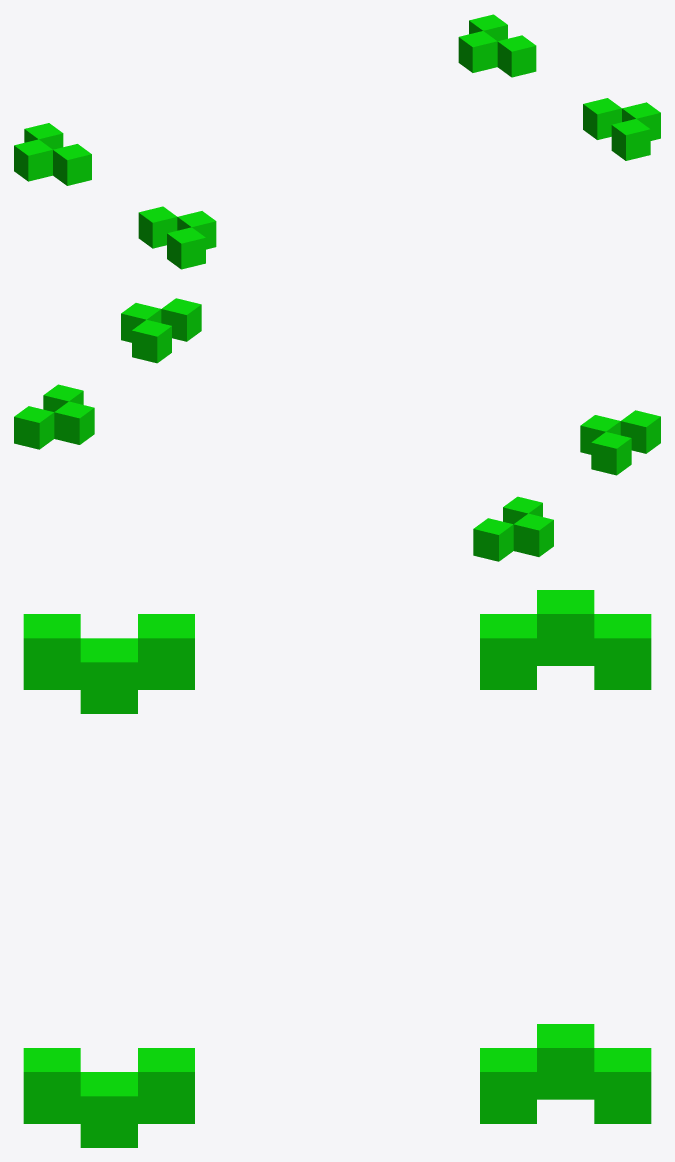
Rendered from NightCity-1-CrosswalkGreen.obj.
3 views of the same model, one above another, from view 1: azimuth 30°, elevation 25°; view 2: azimuth 150°, elevation 25°; view 3: azimuth 270°, elevation 25° (orthographic). The views are drawn at different scales.
Parts seen in each view (by area): view 1: CrosswalkGreen; view 2: CrosswalkGreen; view 3: CrosswalkGreen.
Part boxes in pixels (x1,y1,x2,y2): CrosswalkGreen: (14, 14, 660, 269); CrosswalkGreen: (14, 298, 660, 561); CrosswalkGreen: (23, 590, 651, 1147).
Size of the model in its own units: 2.1 by 0.1 by 1.1.
1 material, 1 textured.
